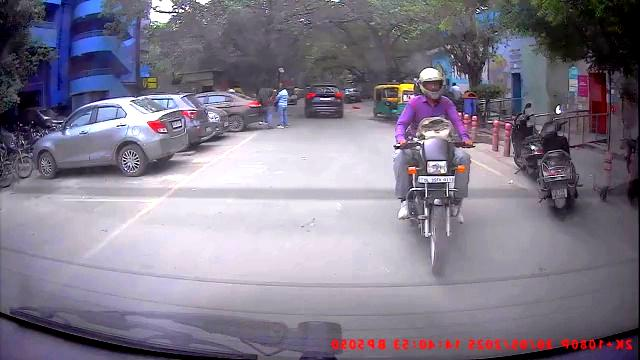motorcycle_with_helmet: (390, 64, 474, 279)
